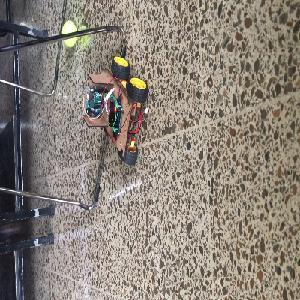Ball: (61, 20, 78, 48)
